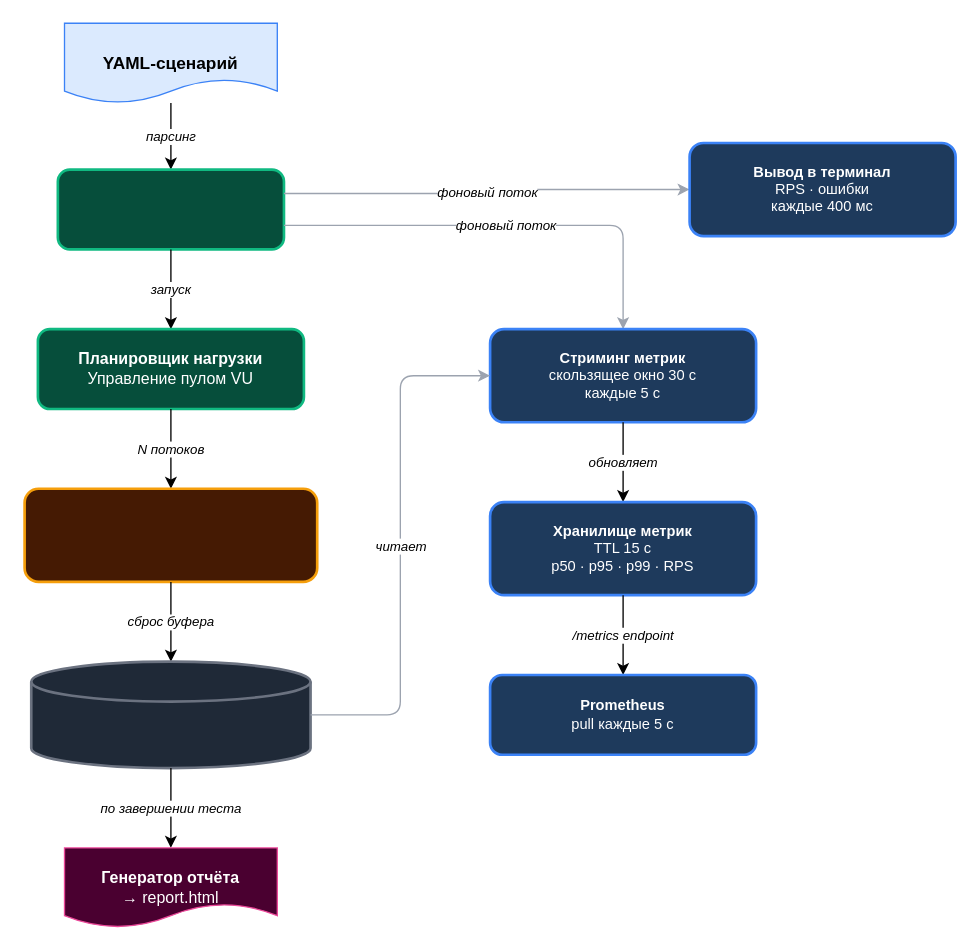
Some shapes in this 979 by 951 pixel diagram are drawn without their labels. Each missing label, with the centre of its shape:
VU-потоки × N HTTP-запросы (pycurl) измерение латентности: point 170,535
Буфер результатов (latency, timestamp, ok) разделяемый, потокобезопасный: point 170,714
Оркестратор Запуск тестов и бенчмарков: point 170,209
